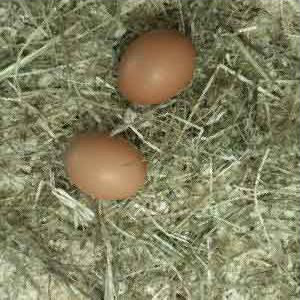egg: (116, 28, 196, 105), (64, 131, 147, 202)
